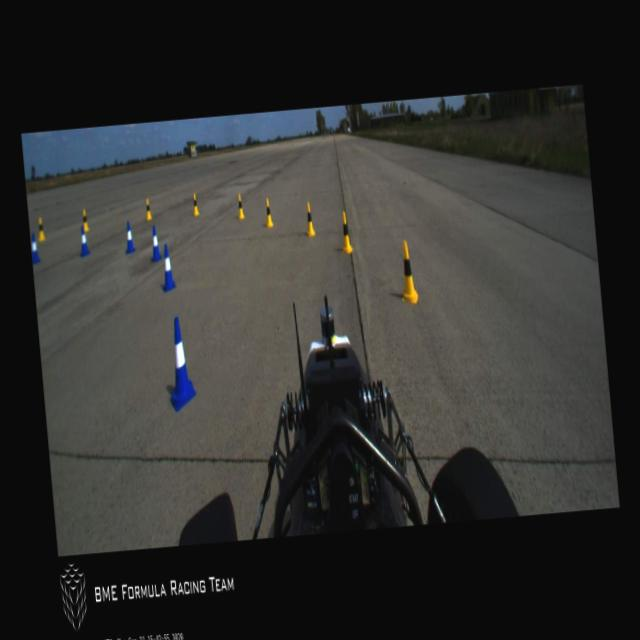blue_cone: (162, 316, 196, 411), (158, 244, 176, 292), (148, 224, 162, 262), (122, 221, 136, 254), (76, 224, 90, 256), (30, 232, 40, 265)
yellow_cone: (396, 239, 418, 305), (338, 210, 354, 256), (304, 202, 314, 236), (264, 196, 274, 227), (190, 192, 200, 217), (36, 216, 45, 242), (236, 193, 244, 220), (80, 208, 88, 232), (144, 198, 152, 220)
